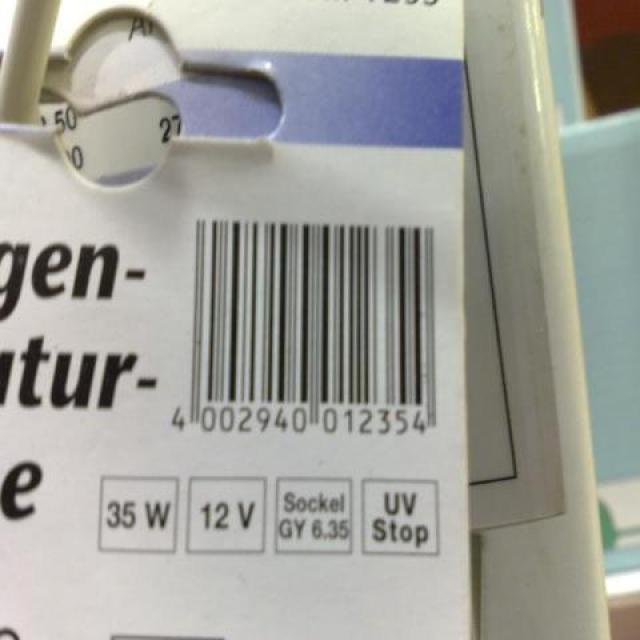Barcode: (164, 193, 456, 467)
